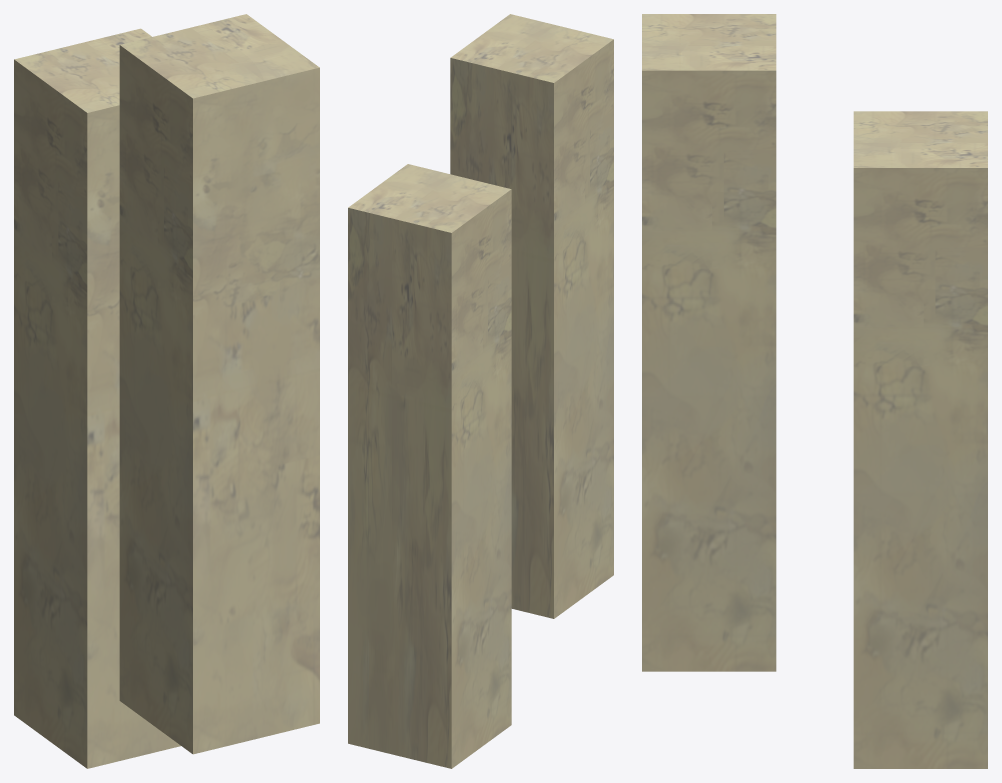
File: Main_1007_obj_03.fbx
The picture shows the model from 3 angles, left to right: view 1: azimuth 30°, elevation 25°; view 2: azimuth 150°, elevation 25°; view 3: azimuth 270°, elevation 25°; orthographic projection. The views are drawn at different scales.
Parts seen in each view (by area): view 1: Cube.005, Cube.013; view 2: Cube.013, Cube.005; view 3: Cube.005, Cube.013.
Part boxes in pixels (x1,y1,x2,y2): Cube.005: [119, 14, 319, 754]; Cube.013: [14, 28, 180, 768]; Cube.013: [348, 164, 511, 768]; Cube.005: [450, 14, 613, 618]; Cube.005: [642, 14, 776, 671]; Cube.013: [853, 111, 987, 768].
Size of the model in its own units: 61.71 by 327 by 148.
